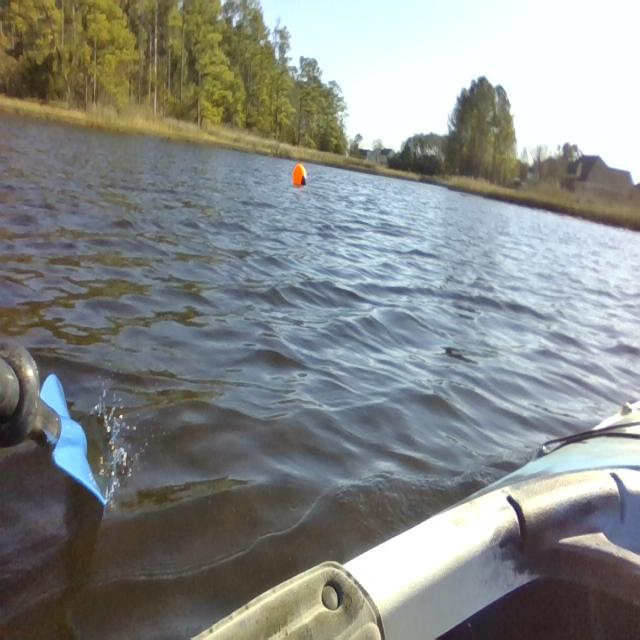Buoy: (288, 159, 311, 189)
